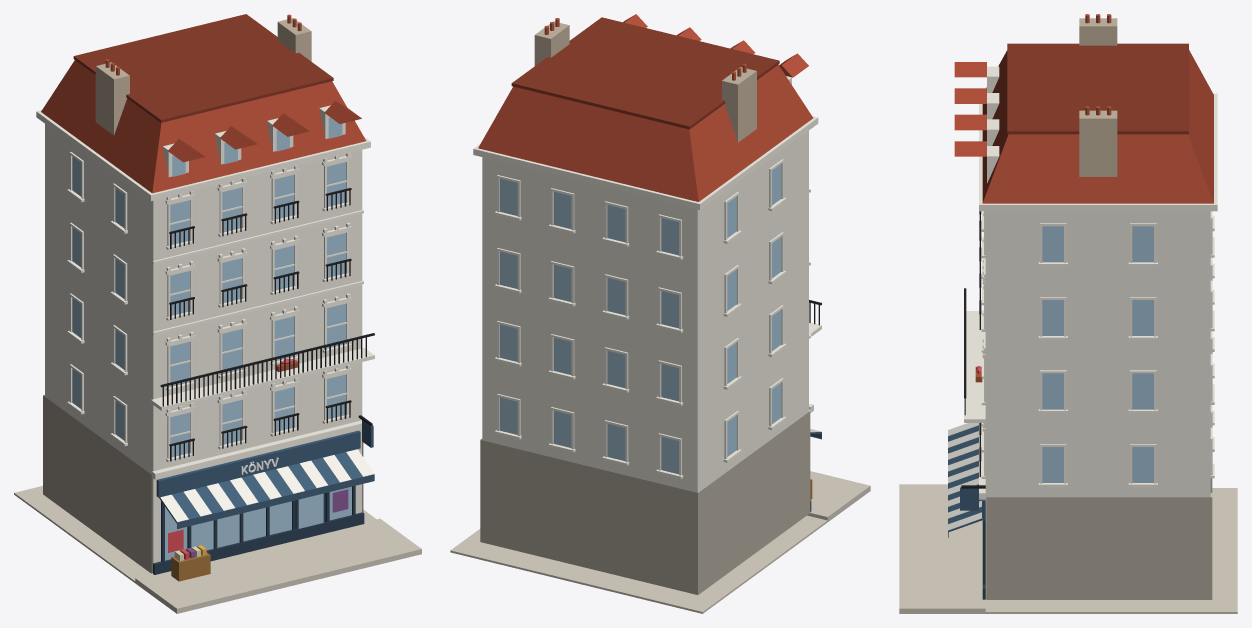
The model's file is Dukkan_genel_konyv_Hafif.fbx.
3 renders of one model, left to right at view 1: azimuth 30°, elevation 25°; view 2: azimuth 150°, elevation 25°; view 3: azimuth 270°, elevation 25°, orthographic. The views are drawn at different scales.
Visible parts, largest first — view 1: Dukkan_genel_konyv_Hafif; view 2: Dukkan_genel_konyv_Hafif; view 3: Dukkan_genel_konyv_Hafif.
Boxes of the visible parts, x1,y1,x2,y2 form: Dukkan_genel_konyv_Hafif: (14, 14, 421, 613); Dukkan_genel_konyv_Hafif: (450, 14, 870, 613); Dukkan_genel_konyv_Hafif: (899, 14, 1237, 613).
Bounding box in the file's own units: 10.86 × 20.02 × 12.52.
